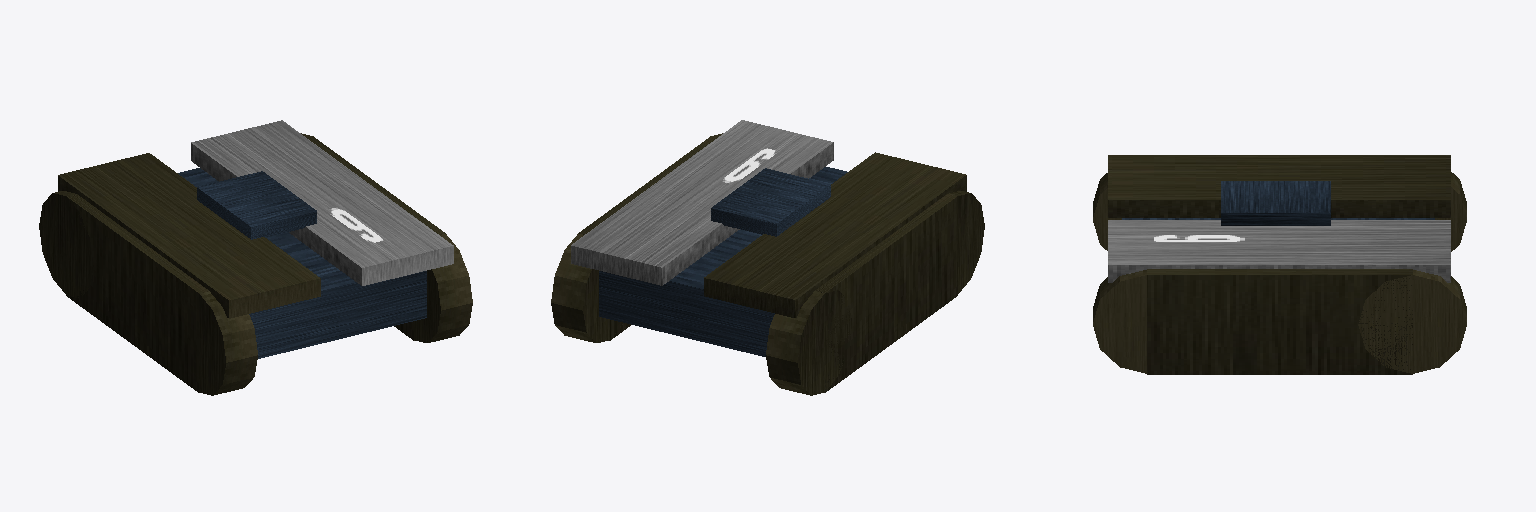
The picture shows the model from 3 angles: view 1: azimuth 30°, elevation 25°; view 2: azimuth 150°, elevation 25°; view 3: azimuth 270°, elevation 25°; orthographic projection.
Parts seen in each view (by area): view 1: polySurface3; view 2: polySurface3; view 3: polySurface3.
Part boxes in pixels (bbox=[...]): polySurface3: bbox=[39, 120, 472, 395]; polySurface3: bbox=[551, 120, 984, 395]; polySurface3: bbox=[1093, 155, 1466, 374].
Bounding box in the file's own units: 6.19 × 2.81 × 8.14.
Materials: 4 (3 with a texture image).